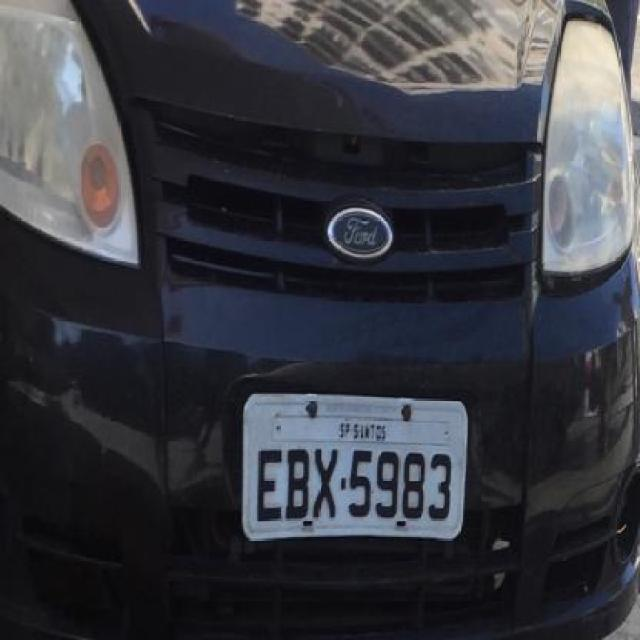old_plate: (238, 384, 474, 548)
